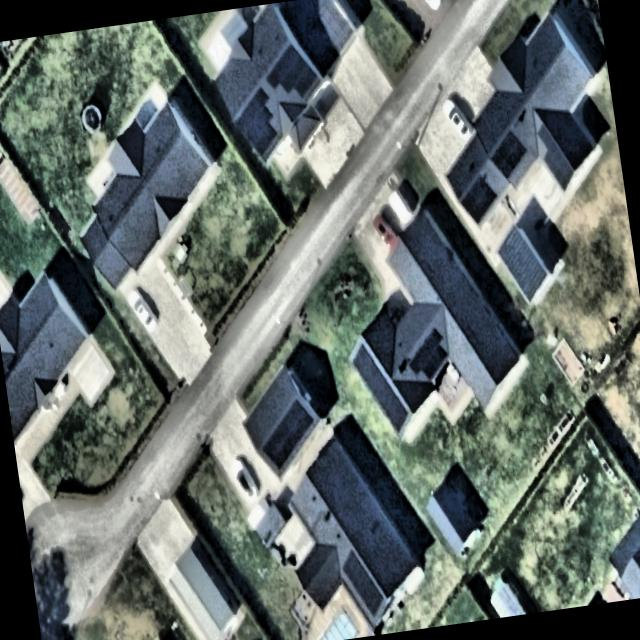roof_pv: (230, 81, 280, 157), (338, 542, 386, 620), (263, 38, 321, 100), (405, 326, 454, 383), (458, 169, 503, 230), (485, 126, 533, 182), (348, 340, 383, 410), (379, 372, 412, 437), (282, 398, 318, 457), (259, 413, 292, 472)
